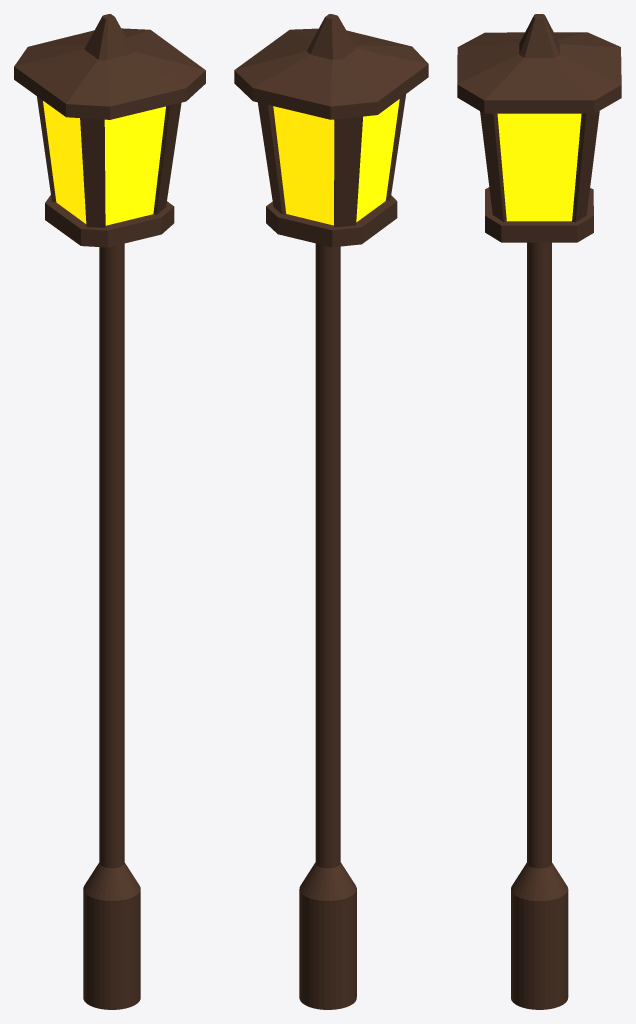
File: StreetLamp.fbx
The picture shows the model from 3 angles, left to right: view 1: azimuth 30°, elevation 25°; view 2: azimuth 150°, elevation 25°; view 3: azimuth 270°, elevation 25°; orthographic projection.
Parts seen in each view (by area): view 1: LampPost; view 2: LampPost; view 3: LampPost.
Part boxes in pixels (x1,y1,x2,y2): LampPost: (14, 14, 205, 1009); LampPost: (234, 14, 428, 1009); LampPost: (457, 14, 621, 1009).
Bounding box in the file's own units: 88.56 × 593 × 90.22.
